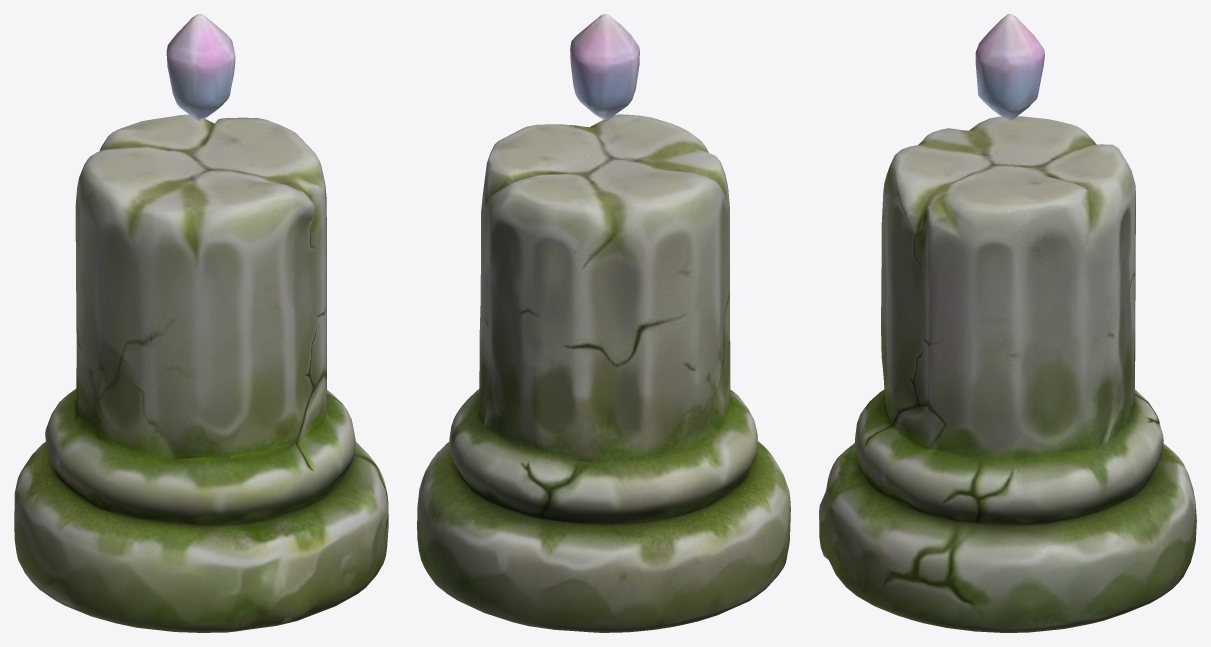
File: pillar.glb
The picture shows the model from 3 angles, left to right: view 1: azimuth 30°, elevation 25°; view 2: azimuth 150°, elevation 25°; view 3: azimuth 270°, elevation 25°; orthographic projection.
Bounding box in the file's own units: 1.22 × 2 × 1.23.
1 material, 1 textured.
